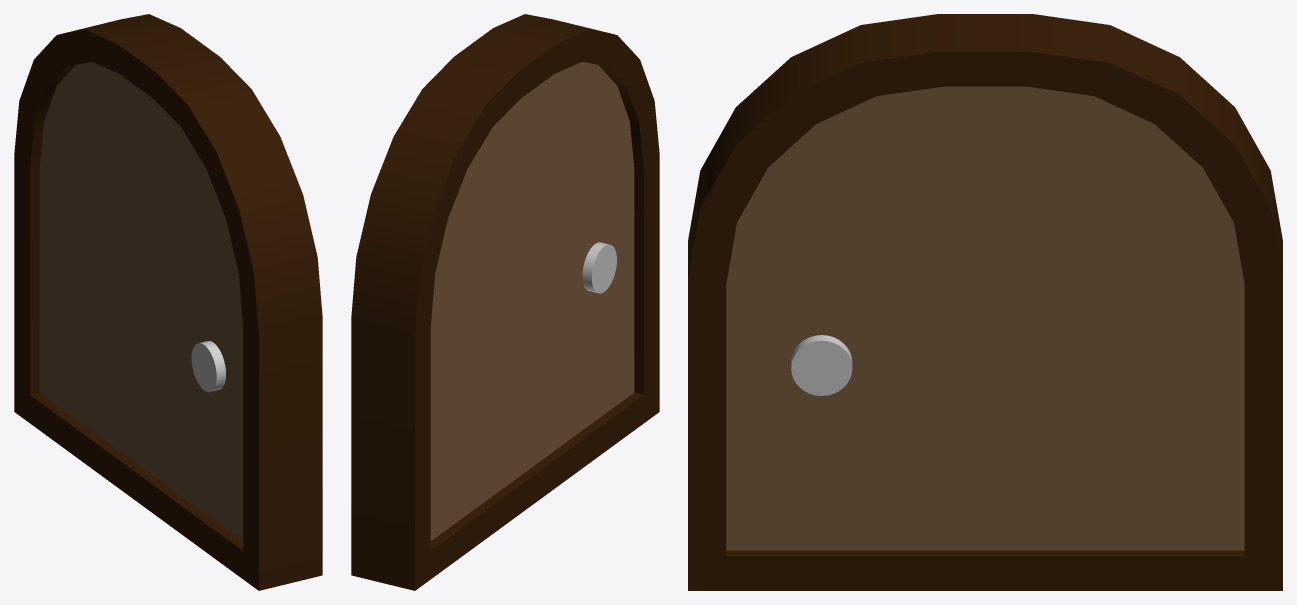
Rendered from Door.obj.
3 views of the same model, side by side, from view 1: azimuth 30°, elevation 25°; view 2: azimuth 150°, elevation 25°; view 3: azimuth 270°, elevation 25° (orthographic). The views are drawn at different scales.
Visible parts, largest first — view 1: Cube.001; view 2: Cube.001; view 3: Cube.001.
Part boxes in pixels (x1,y1,x2,y2): Cube.001: (14,14,322,590); Cube.001: (351,14,659,590); Cube.001: (688,14,1282,590).
Bounding box in the file's own units: 0.2921 × 1.94 × 1.94.
1 material, 1 textured.
